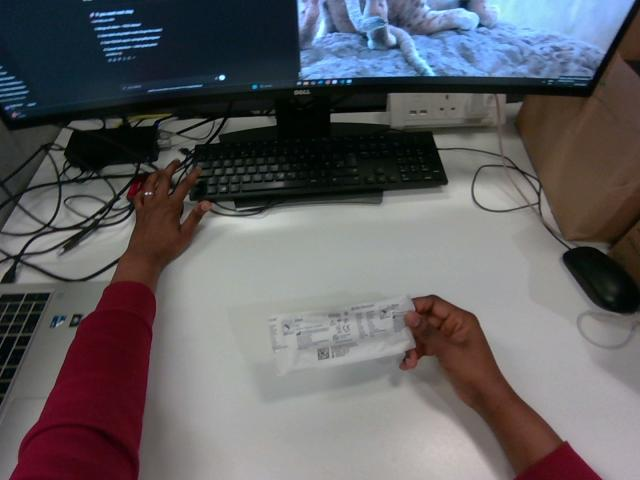syringe: (269, 296, 414, 374)
